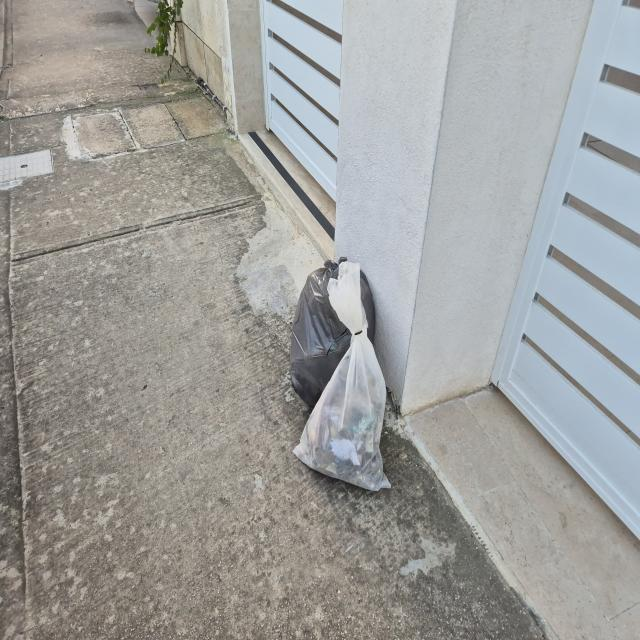black_bag: (283, 255, 392, 389)
white_bag: (304, 268, 406, 504)
